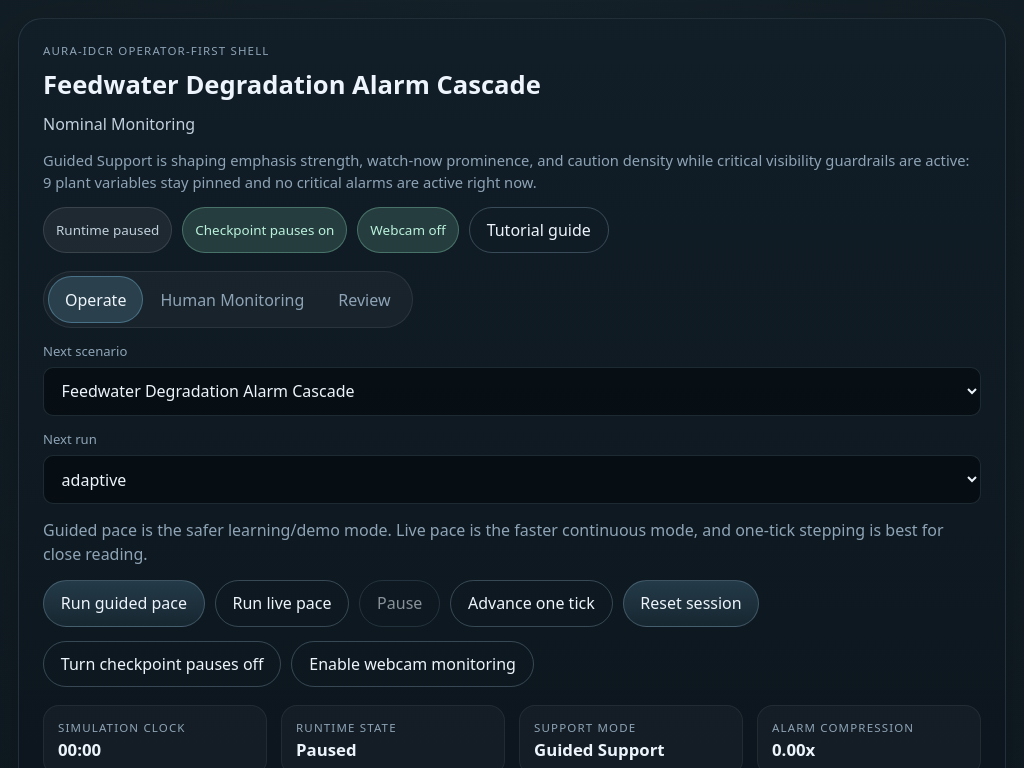
Test: AuraSessionStore › keeps the human monitoring workspace linked to live runtime updates
Click the tab "Human Monitoring": (232, 300) [143, 276, 321, 323]
(page scrolled)
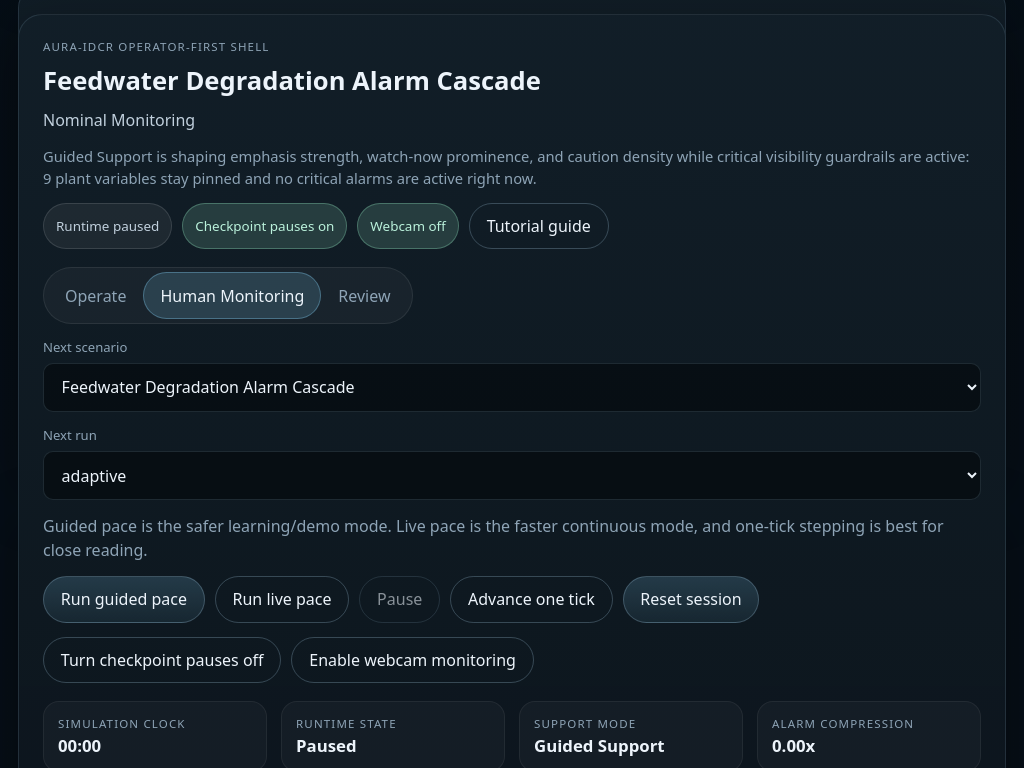
Expected: the text "No recent interaction records" is shown, [68, 373, 303, 395]
